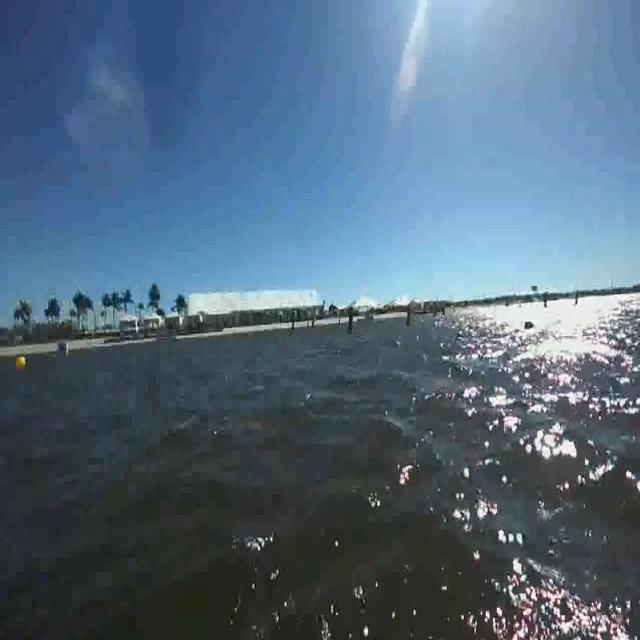yellow-buoy: (16, 356, 27, 371)
